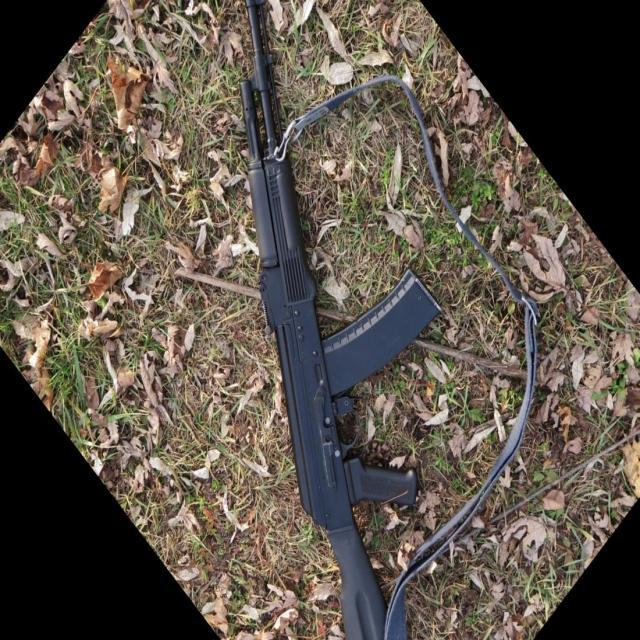weapon: (238, 0, 444, 640)
